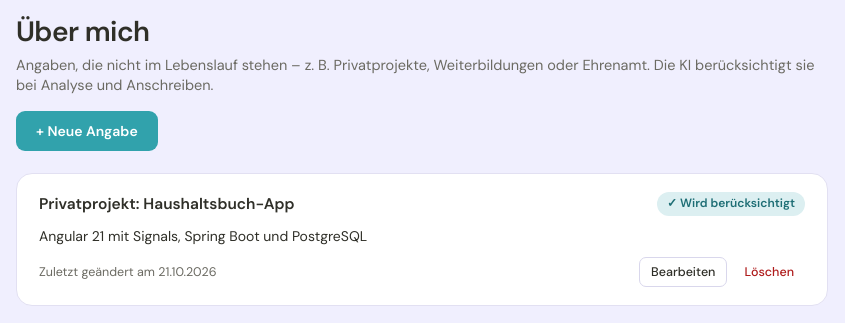
AboutComponent › toggles whether the AI uses a note
The width and height of the screenshot is (845, 323).
Click the switch with class "include-pill" at (731, 204), box [657, 192, 805, 216]
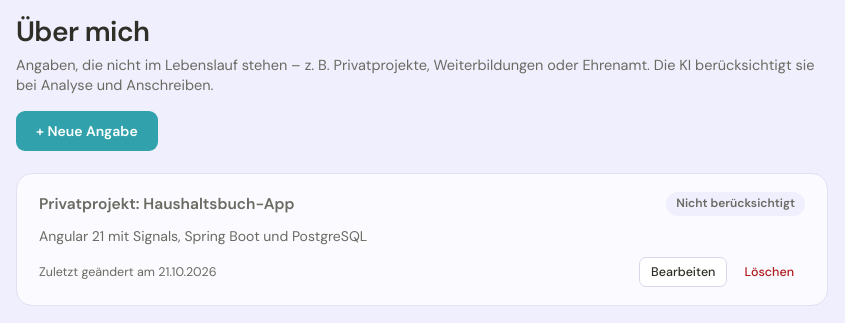
Result: the switch with class "include-pill" reads "Nicht berücksichtigt" at [666, 192, 805, 216]
